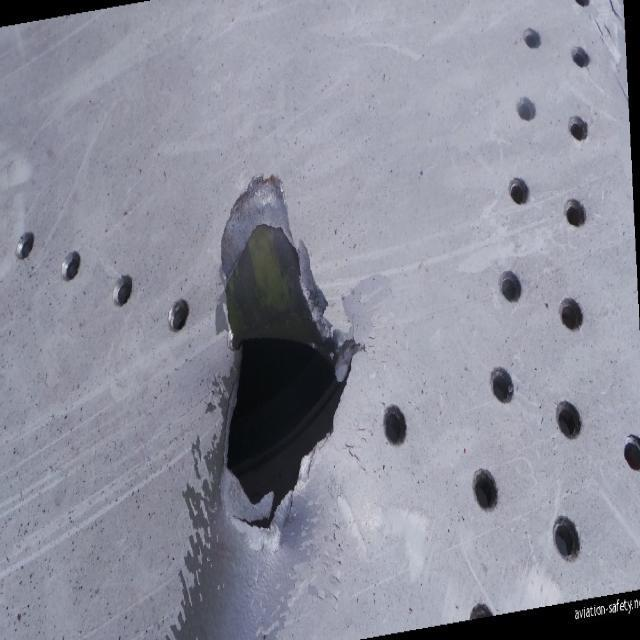crack: (211, 170, 361, 538)
